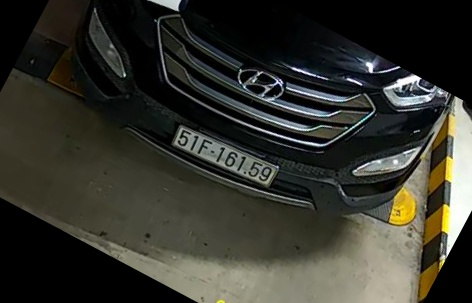plate: (168, 117, 284, 196)
